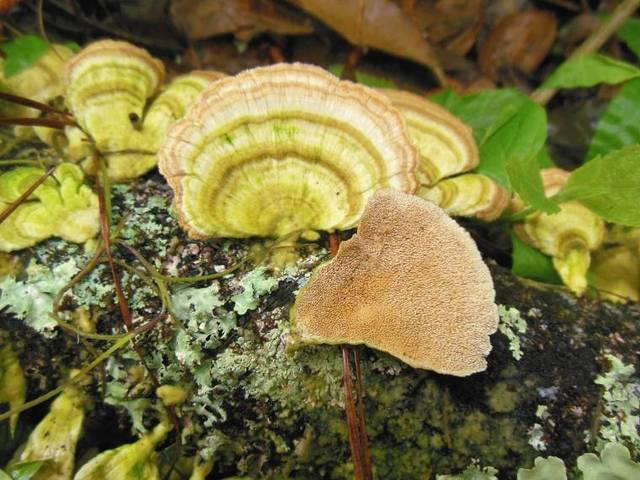Non-edible Mushroom: (286, 186, 500, 477), (156, 59, 421, 269)
